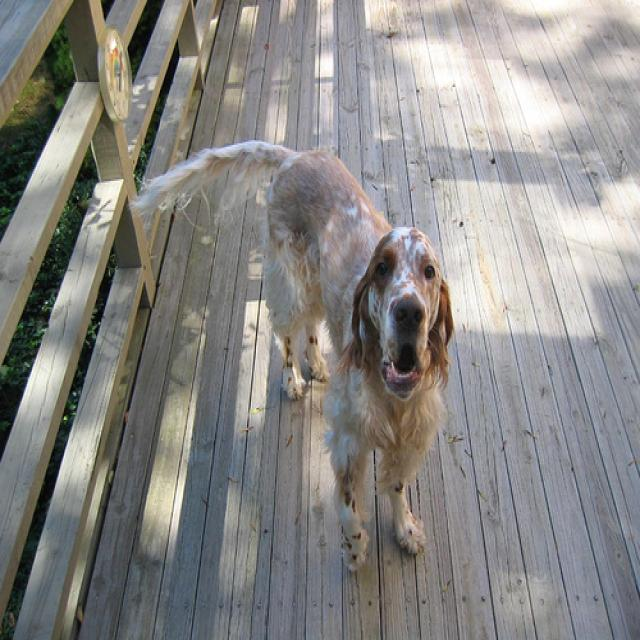dog-english_setter: (137, 138, 457, 572)
